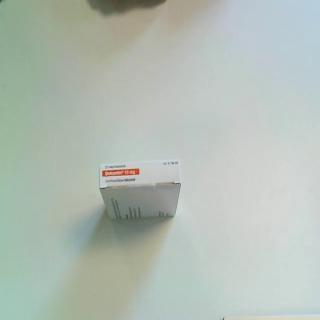dolcontin10mg: (98, 158, 183, 224)
